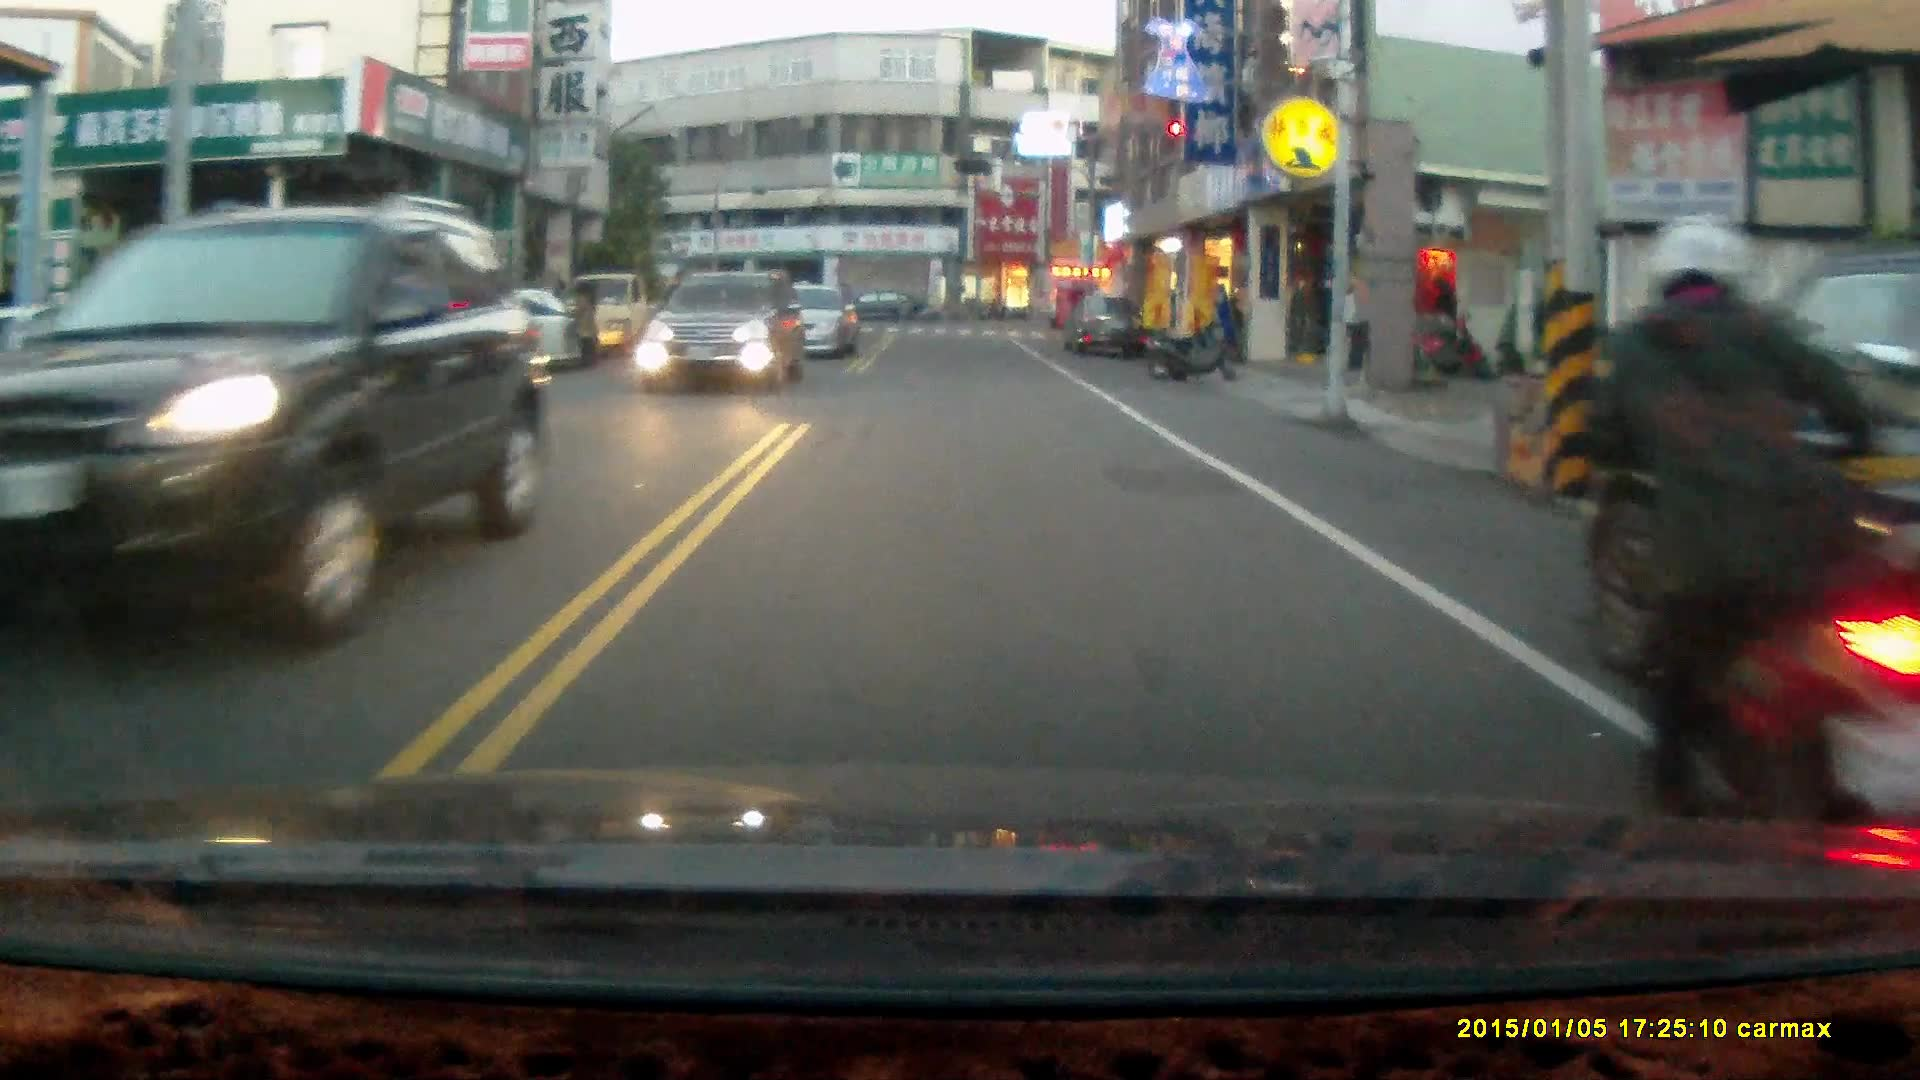pedestrian: (567, 278, 597, 371)
rider: (1582, 211, 1920, 845)
vehicle: (5, 196, 559, 653), (1600, 249, 1920, 762), (643, 268, 802, 397), (743, 282, 863, 361), (1062, 291, 1148, 361), (825, 286, 936, 328)
